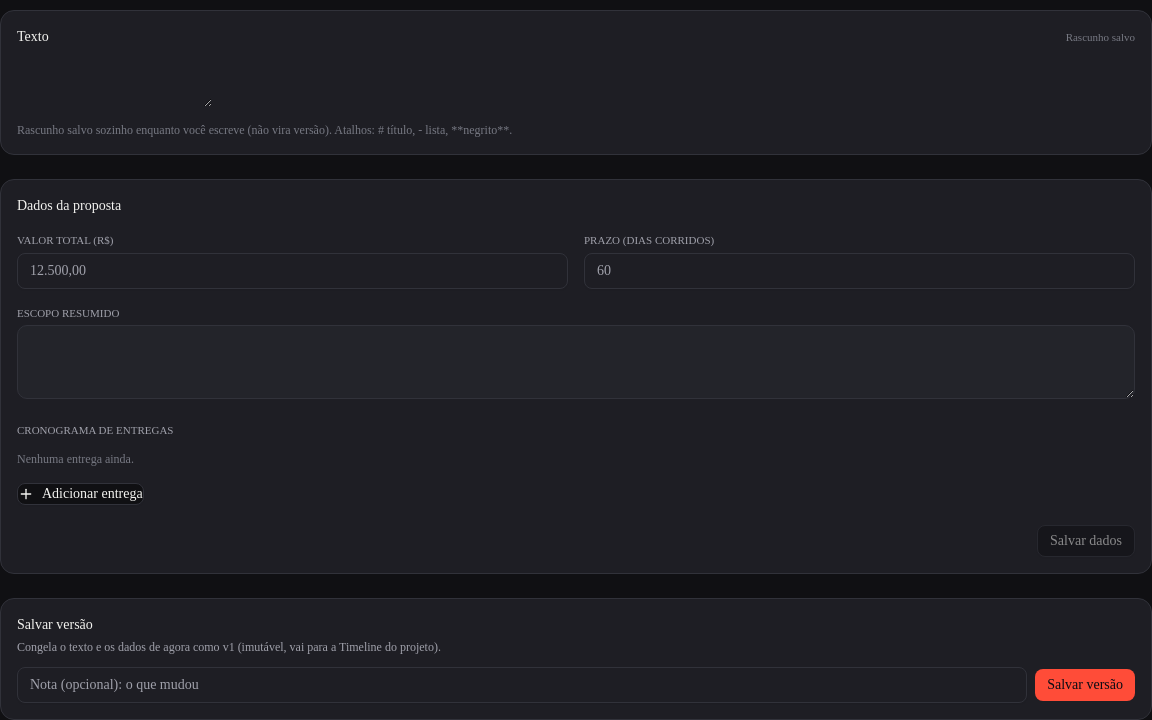
Scenario: PainelProposta › salvar versão manda o texto do editor e a nota; mostra o número
(page scrolled)
Type "primeira" into the field named "Nota da versão (opcional)". click: (522, 684)
box: [17, 666, 1027, 702]
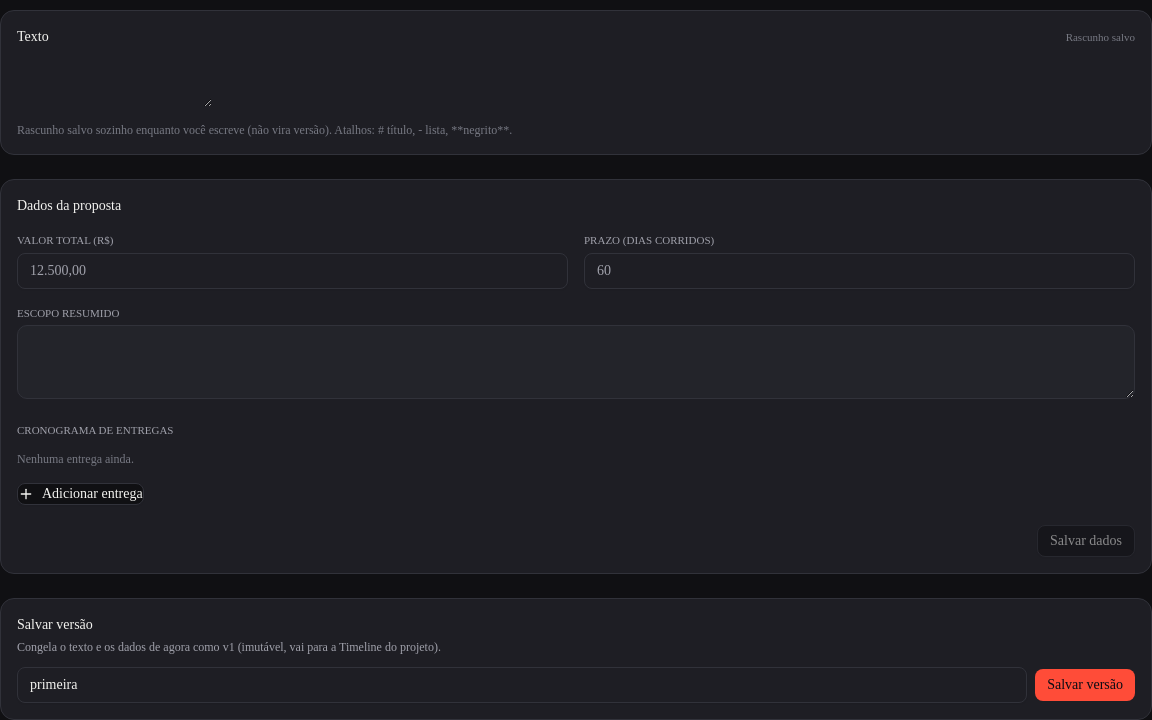
Click the button "Salvar versão". click: (1085, 684)
box: [1035, 668, 1135, 700]
(page scrolled)
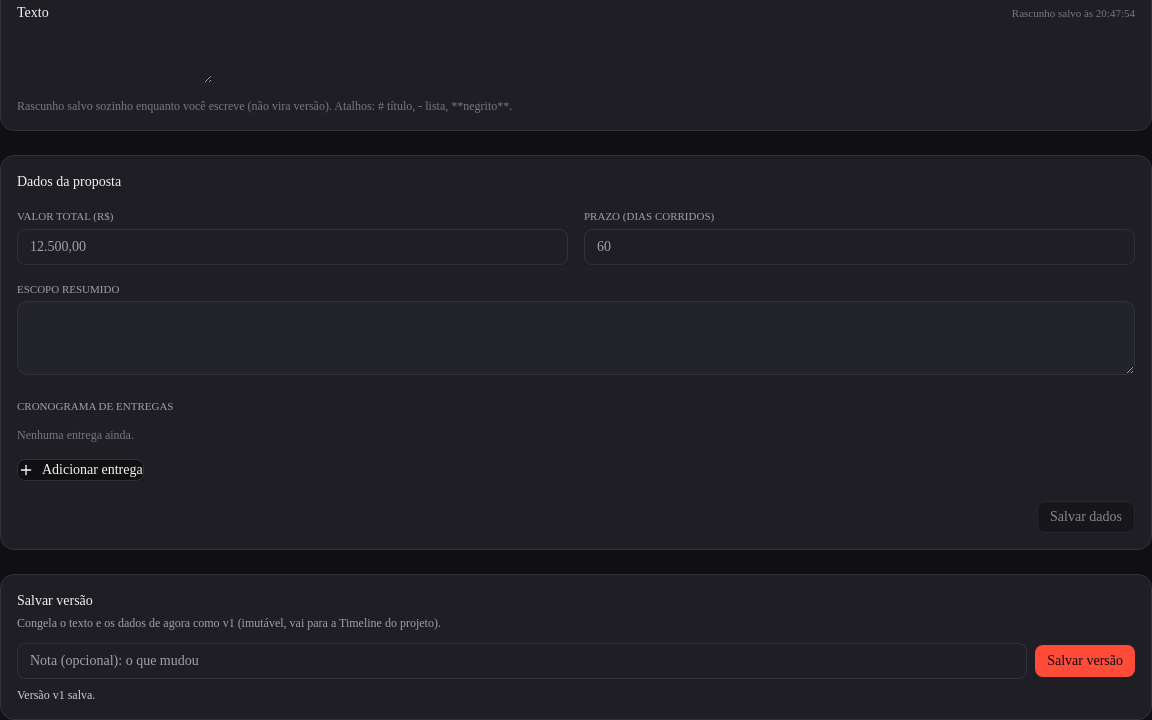
Expected: the text "Versão v1 salva." is shown, [17, 688, 95, 702]
